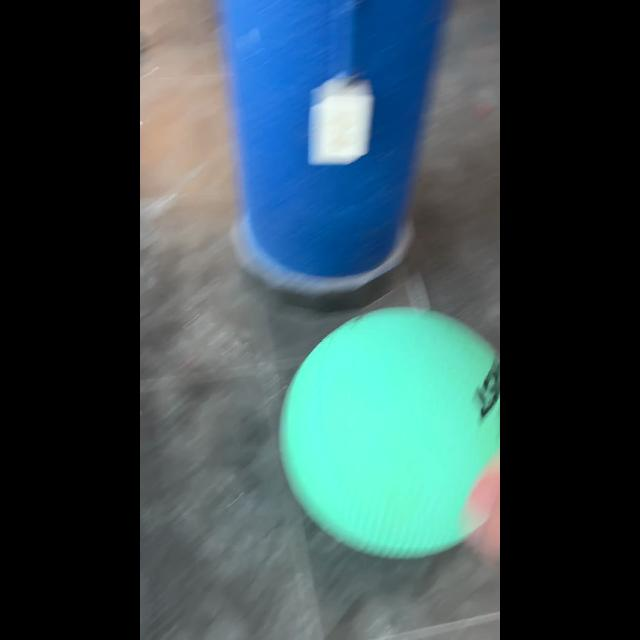ALGAE: (277, 306, 498, 560)
